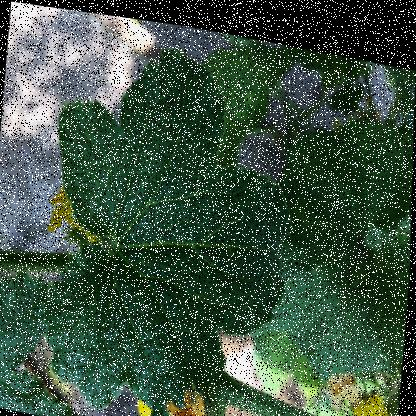Normal: (38, 19, 310, 415)
